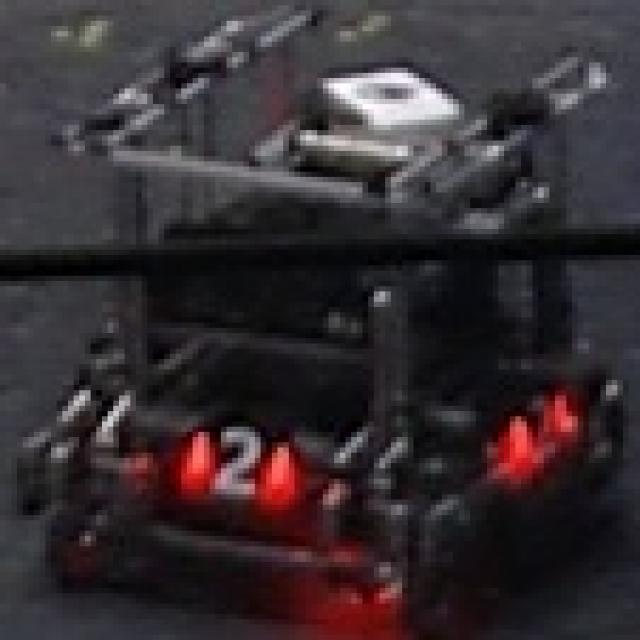R2: (181, 422, 295, 499), (504, 385, 578, 474)
